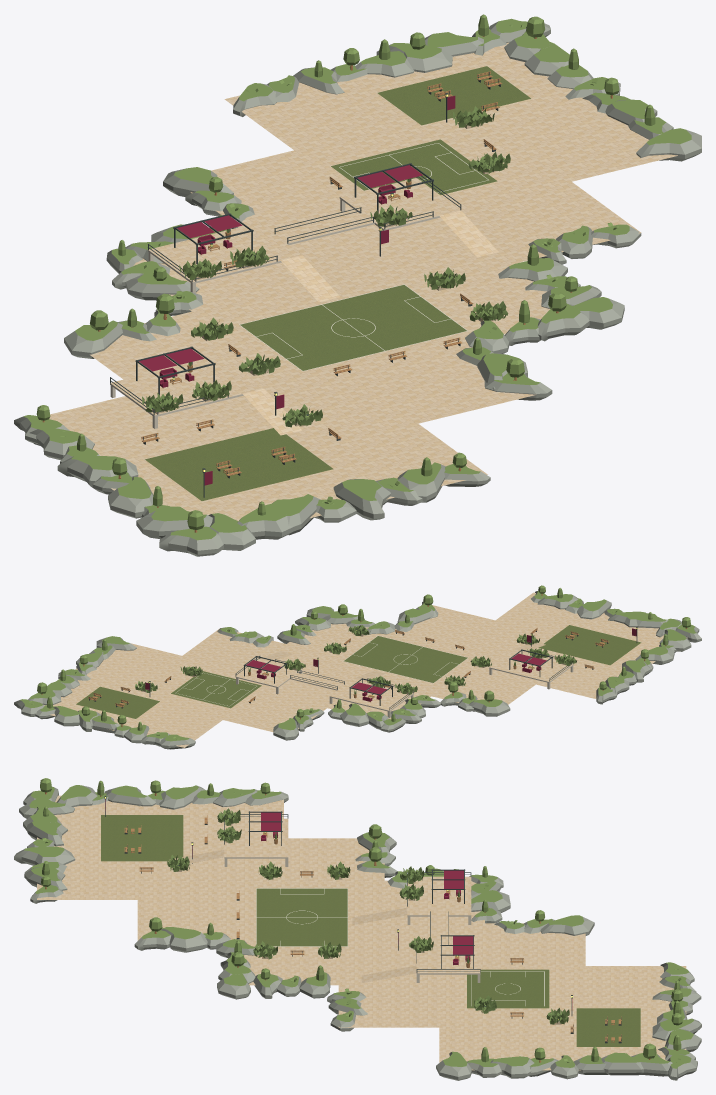
File: team-campus.glb
3 renders of one model, top to bottom at view 1: azimuth 30°, elevation 25°; view 2: azimuth 150°, elevation 25°; view 3: azimuth 270°, elevation 25°, orthographic. The views are drawn at different scales.
Visible parts, largest first — view 1: district 0 / campus / sandstone, district 4 / campus / sandstone, district 3 / campus / sandstone, district 2 / campus / sandstone, district 1 / campus / sandstone, district 0 / campus / cliff, district 0 / campus / sage, district 4 / campus / sage, district 4 / campus / cliff, district 2 / campus / sage, district 0 / campus / turf, district 2 / campus / cliff (+13 smaller); view 2: district 0 / campus / sandstone, district 4 / campus / sandstone, district 3 / campus / sandstone, district 1 / campus / sandstone, district 2 / campus / sandstone, district 0 / campus / sage, district 4 / campus / cliff, district 4 / campus / sage, district 0 / campus / cliff, district 2 / campus / sage, district 2 / campus / cliff, district 0 / campus / turf (+14 smaller); view 3: district 3 / campus / sandstone, district 0 / campus / sandstone, district 4 / campus / sandstone, district 1 / campus / sandstone, district 2 / campus / sandstone, district 4 / campus / cliff, district 0 / campus / sage, district 0 / campus / cliff, district 4 / campus / sage, district 2 / campus / sage, district 0 / campus / turf, district 4 / campus / turf (+8 smaller).
Part boxes in pixels (left/top/right/bottom): district 0 / campus / sandstone: left=49, top=356, right=487, bottom=521; district 4 / campus / sandstone: left=224, top=42, right=677, bottom=181; district 3 / campus / sandstone: left=190, top=148, right=641, bottom=262; district 2 / campus / sandstone: left=133, top=213, right=549, bottom=340; district 1 / campus / sandstone: left=90, top=309, right=536, bottom=423; district 0 / campus / cliff: left=14, top=416, right=490, bottom=556; district 0 / campus / sage: left=23, top=380, right=480, bottom=540; district 4 / campus / sage: left=239, top=14, right=691, bottom=173; district 4 / campus / cliff: left=233, top=22, right=701, bottom=167; district 2 / campus / sage: left=111, top=214, right=612, bottom=339; district 0 / campus / turf: left=145, top=428, right=333, bottom=500; district 2 / campus / cliff: left=106, top=227, right=624, bottom=353; district 0 / campus / sandstone: left=489, top=592, right=687, bottom=698; district 4 / campus / sandstone: left=44, top=643, right=222, bottom=747; district 3 / campus / sandstone: left=179, top=628, right=326, bottom=731; district 1 / campus / sandstone: left=388, top=605, right=535, bottom=704; district 2 / campus / sandstone: left=283, top=623, right=431, bottom=719; district 0 / campus / sage: left=516, top=585, right=696, bottom=695; district 4 / campus / cliff: left=14, top=637, right=195, bottom=749; district 4 / campus / sage: left=20, top=636, right=202, bottom=741; district 0 / campus / cliff: left=531, top=591, right=701, bottom=704; district 2 / campus / sage: left=282, top=604, right=435, bottom=725; district 2 / campus / cliff: left=277, top=607, right=440, bottom=732; district 0 / campus / turf: left=538, top=625, right=641, bottom=665; district 3 / campus / sandstone: left=338, top=923, right=585, bottom=1027; district 0 / campus / sandstone: left=37, top=795, right=288, bottom=899; district 4 / campus / sandstone: left=439, top=966, right=686, bottom=1070; district 1 / campus / sandstone: left=137, top=838, right=384, bottom=942; district 2 / campus / sandstone: left=244, top=876, right=484, bottom=985; district 4 / campus / cliff: left=436, top=963, right=701, bottom=1080; district 0 / campus / sage: left=24, top=778, right=281, bottom=894; district 0 / campus / cliff: left=14, top=785, right=288, bottom=903; district 4 / campus / sage: left=443, top=962, right=693, bottom=1068; district 2 / campus / sage: left=223, top=865, right=502, bottom=987; district 0 / campus / turf: left=101, top=815, right=183, bottom=861; district 4 / campus / turf: left=496, top=985, right=640, bottom=1046.
Size of the model in its own units: 150 by 7.27 by 150.
Materials: 10 (3 with a texture image).
